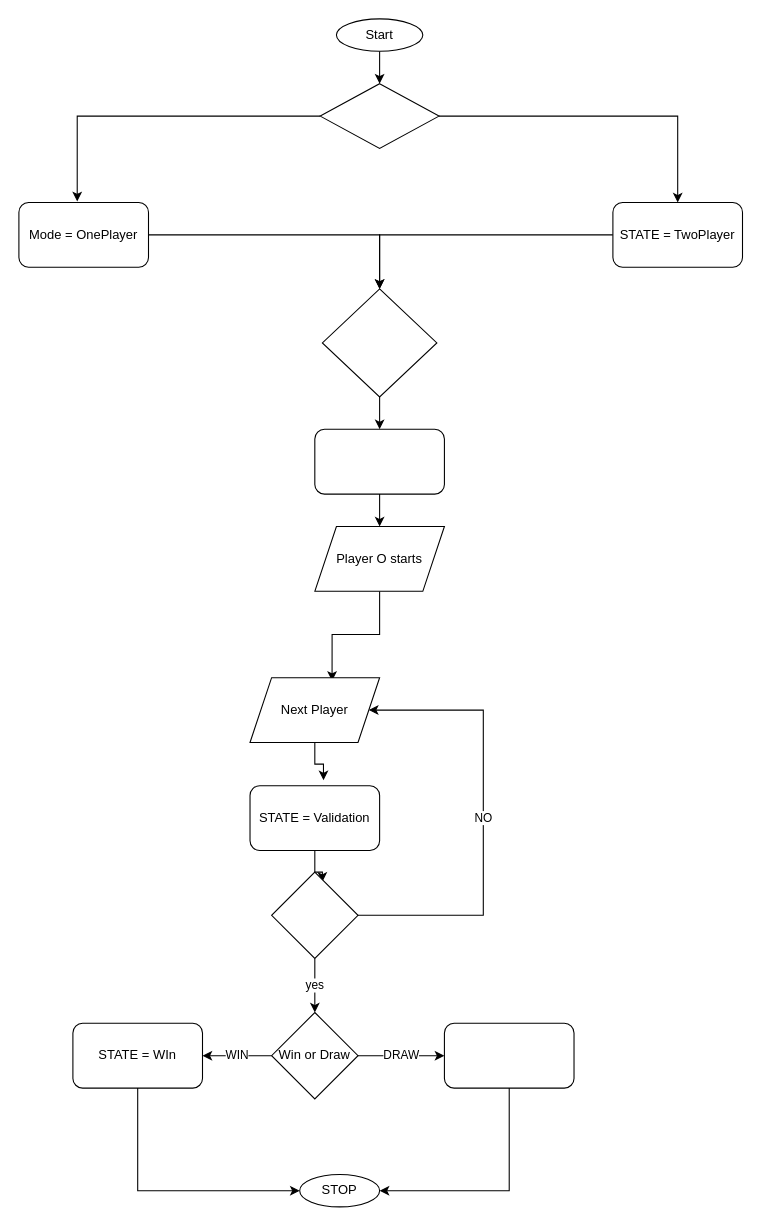
Image size: 761x1226. Some labels were removed from this diagram. Here are the shapes that lost their labels. From the top down, the box of each, then its label:
(319, 83, 439, 148): 1 or 2 Players?
(321, 288, 437, 397): Player1: X, O, Rand?
(314, 428, 444, 494): Assign Suit to Players
(271, 871, 358, 959): Is Win/Draw?
(443, 1022, 574, 1088): STATE = Draw
